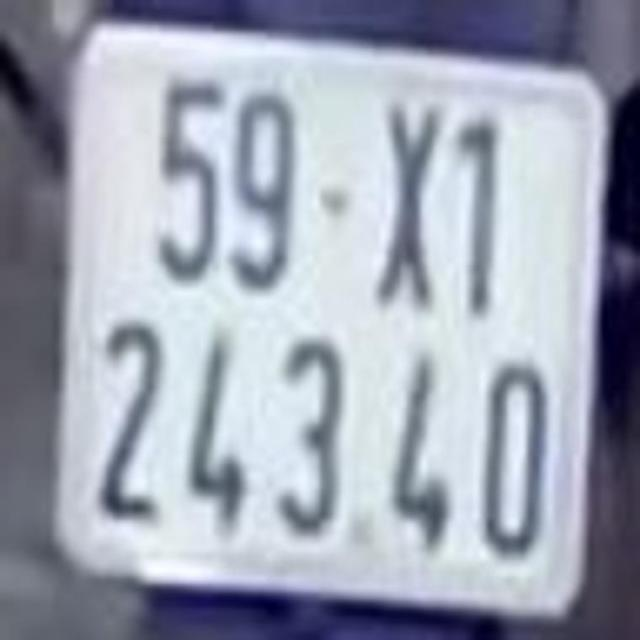0: (481, 357, 548, 558)
1: (452, 112, 503, 318)
2: (98, 318, 162, 523)
3: (277, 333, 343, 536)
4: (391, 352, 454, 550), (188, 329, 249, 532)
5: (154, 75, 224, 282)
9: (229, 85, 296, 292)
X: (376, 101, 440, 308)
